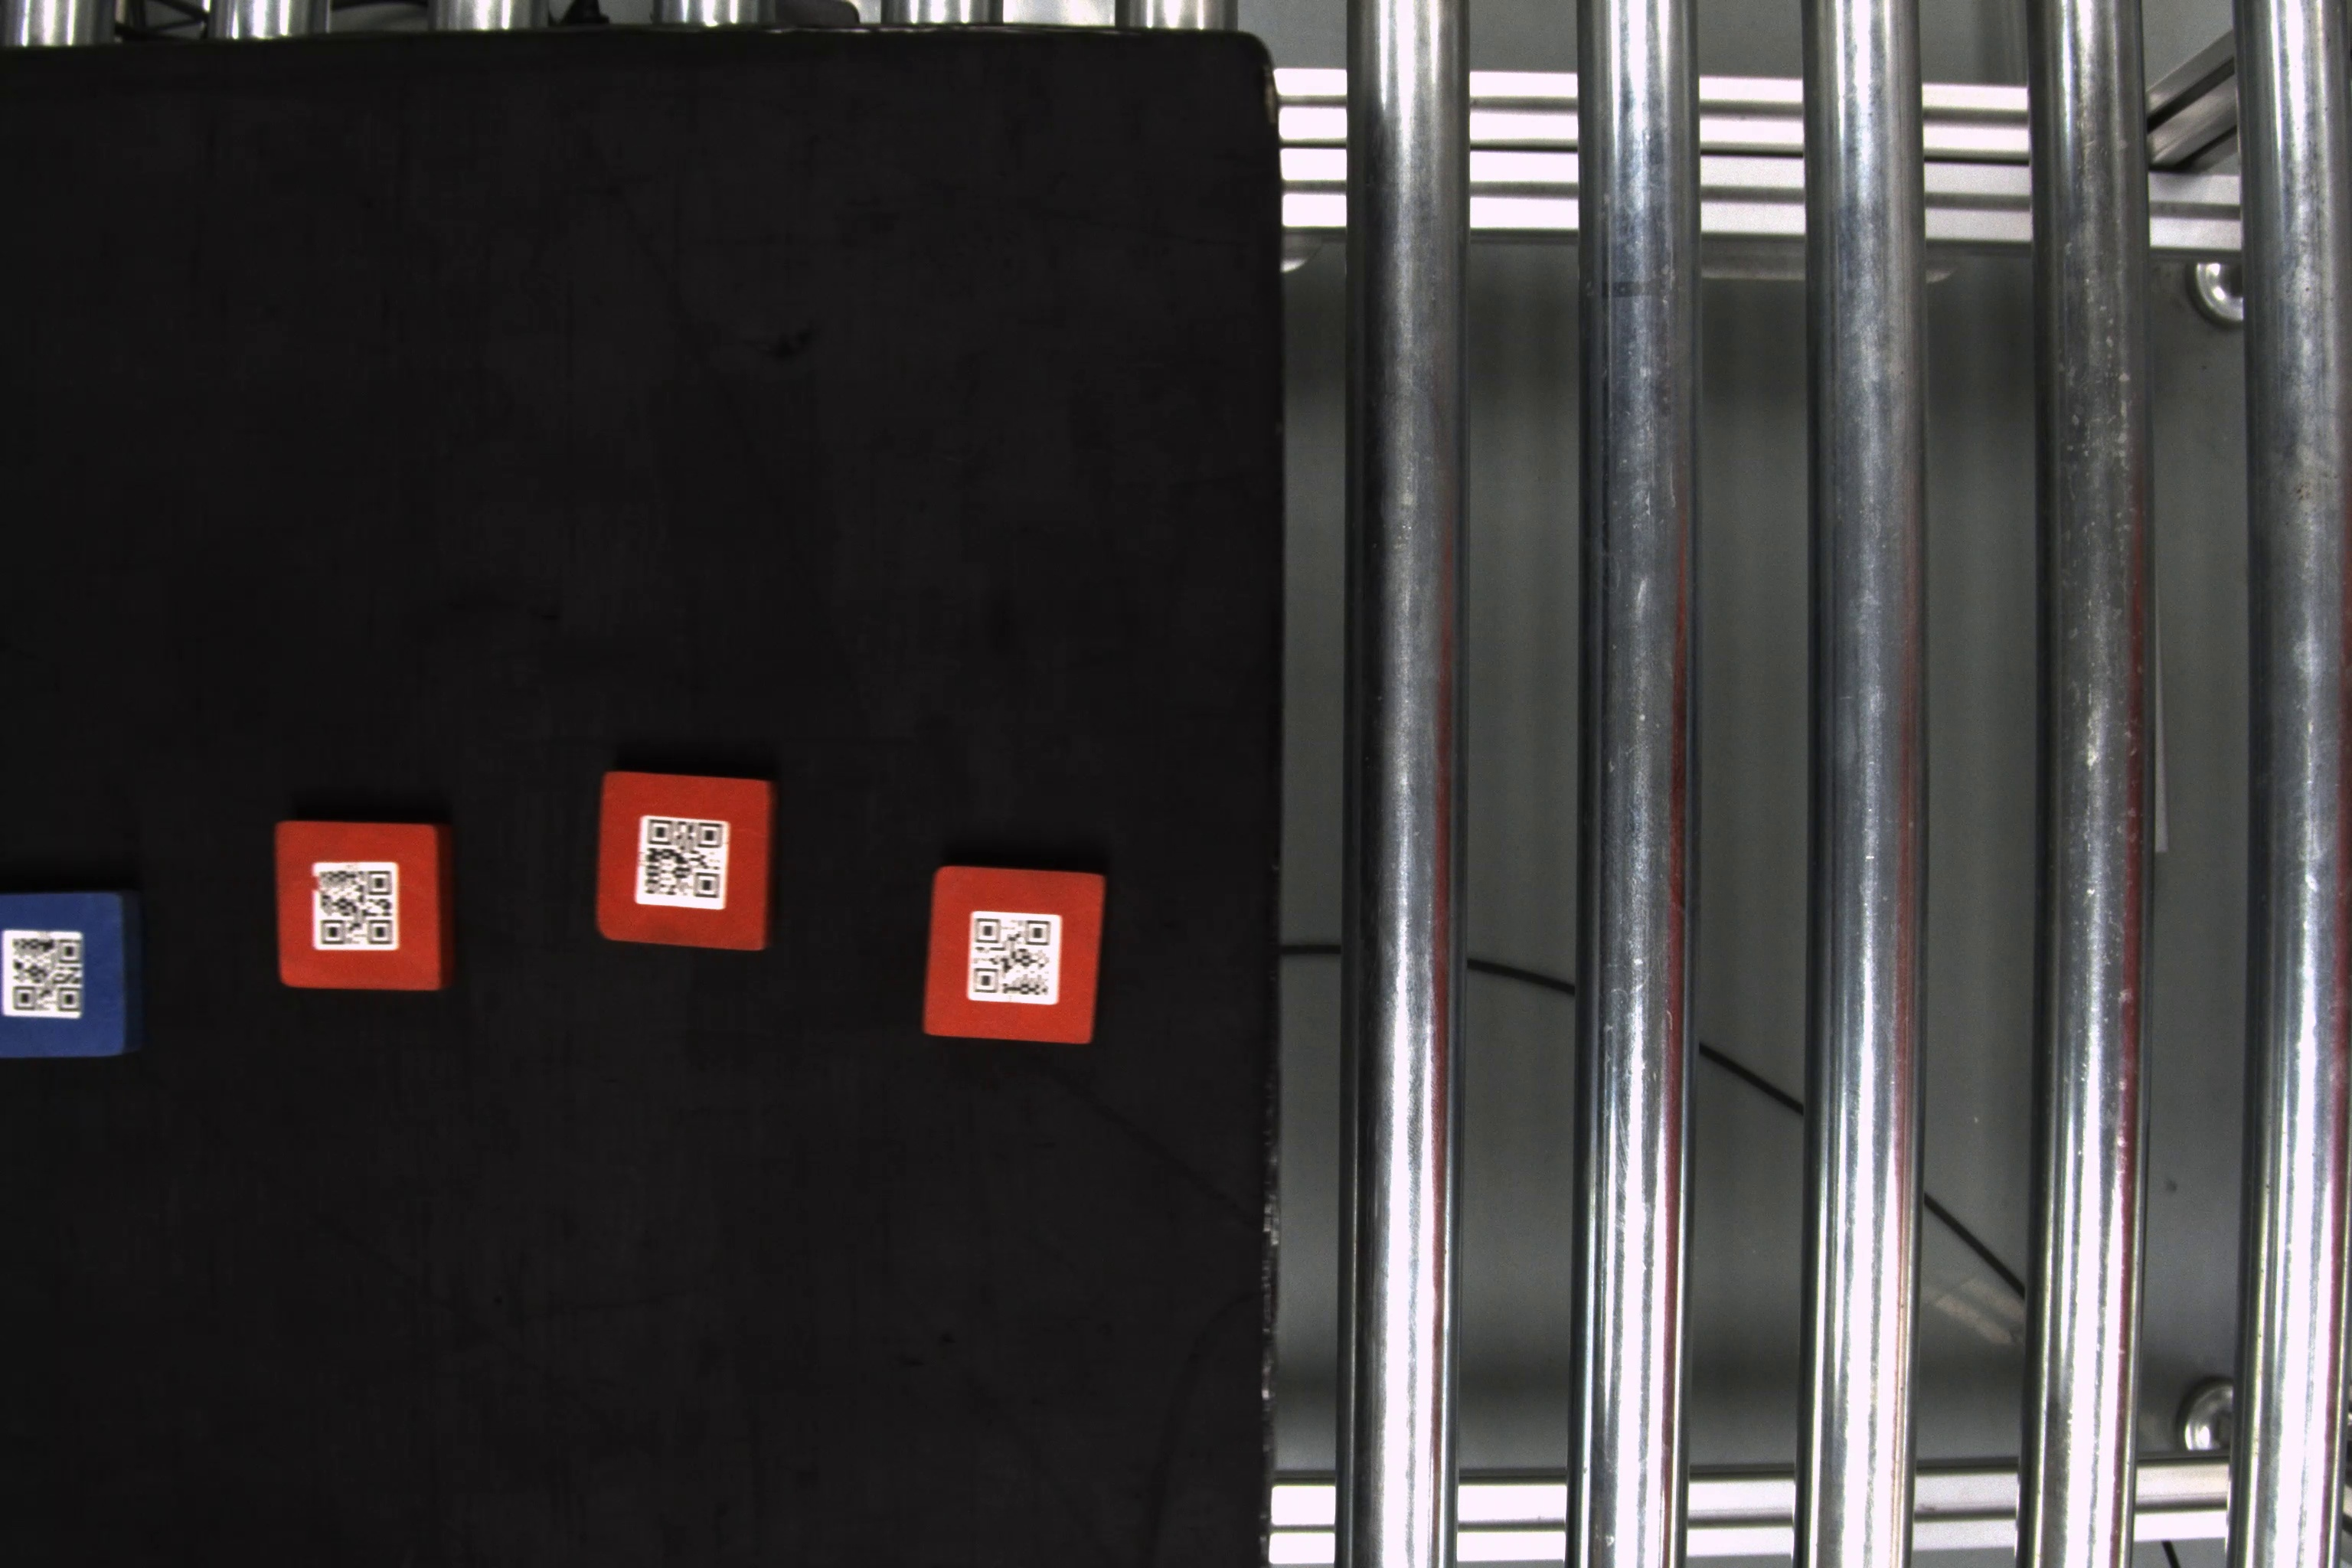wood: (269, 810, 469, 1006), (919, 857, 1115, 1050), (595, 763, 789, 955), (3, 887, 166, 1066)
